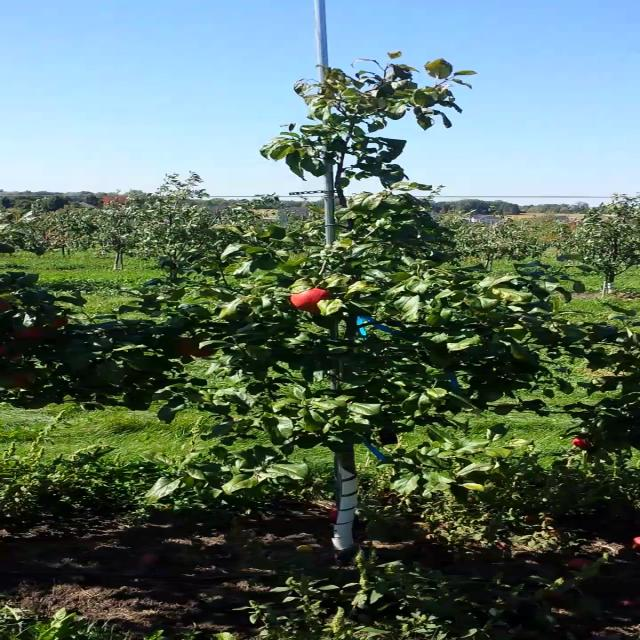apple: (288, 287, 337, 312), (8, 322, 47, 342), (7, 365, 37, 387), (169, 337, 199, 358), (571, 435, 599, 451), (194, 339, 217, 358), (45, 313, 71, 329), (6, 348, 28, 360), (1, 298, 14, 314), (4, 340, 20, 348), (2, 347, 8, 359)
